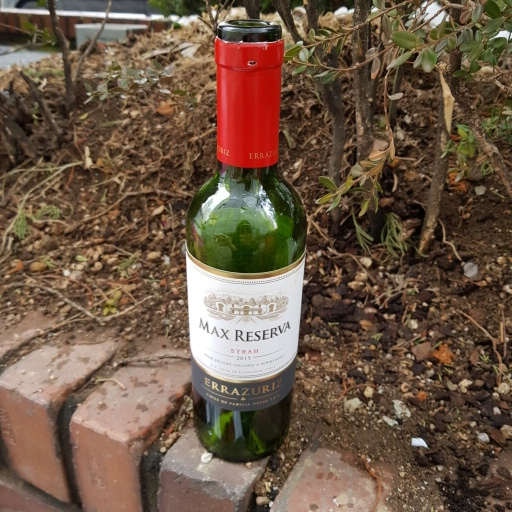Glass_2: (180, 21, 309, 462)
